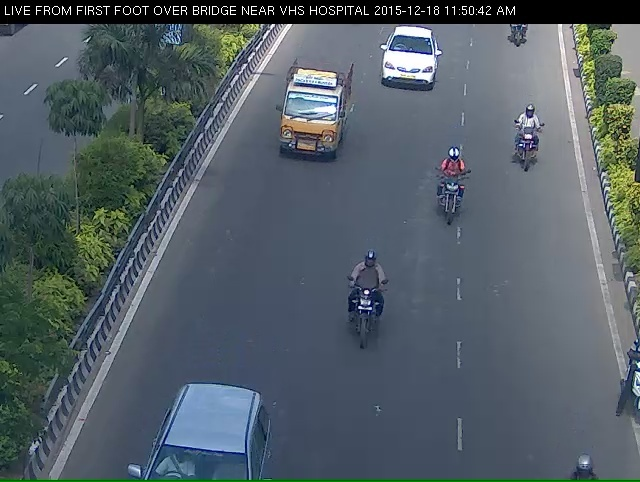Auto: (270, 65, 342, 167)
Car: (140, 403, 264, 482), (383, 32, 436, 110)
Person: (428, 161, 473, 246), (344, 276, 380, 361), (509, 116, 544, 177)
